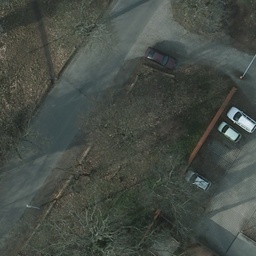car: (145, 46, 178, 70), (228, 108, 256, 133), (183, 168, 212, 191), (218, 122, 242, 142)
